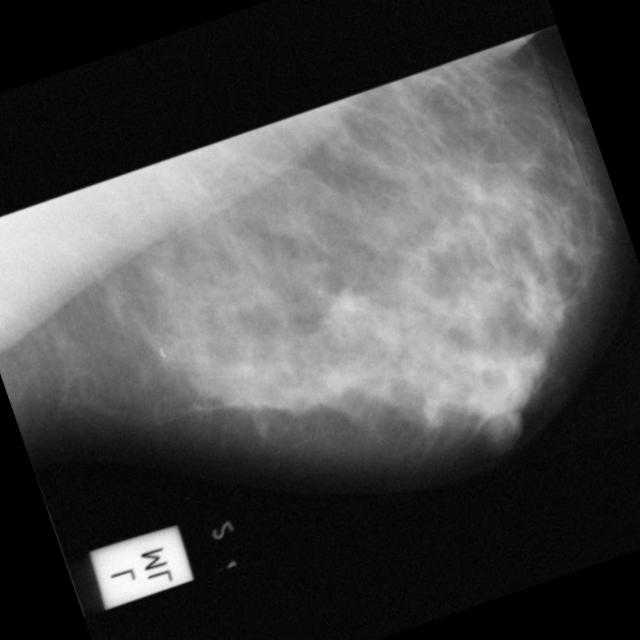CALC: (146, 327, 192, 373)
